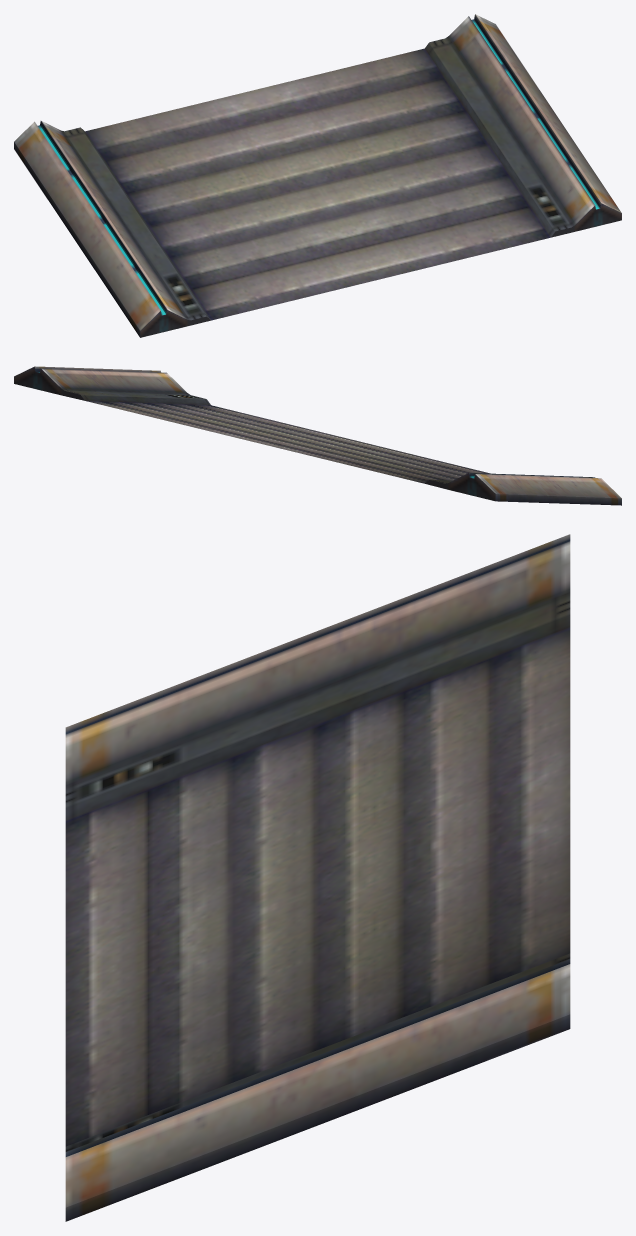
Rendered from zc_lekesigang_louti01.FBX.
3 renders of one model, top to bottom at view 1: azimuth 30°, elevation 25°; view 2: azimuth 150°, elevation 25°; view 3: azimuth 270°, elevation 25°, orthographic. The views are drawn at different scales.
Visible parts, largest first — view 1: zc_lekesigang_louti01; view 2: zc_lekesigang_louti01; view 3: zc_lekesigang_louti01.
Boxes of the visible parts, x1=… form: zc_lekesigang_louti01: x1=14, y1=14, x2=621, y2=337; zc_lekesigang_louti01: x1=14, y1=366, x2=621, y2=505; zc_lekesigang_louti01: x1=65, y1=534, x2=570, y2=1221.
Bounding box in the file's own units: 667 × 157 × 303.
Materials: 1 (1 with a texture image).
